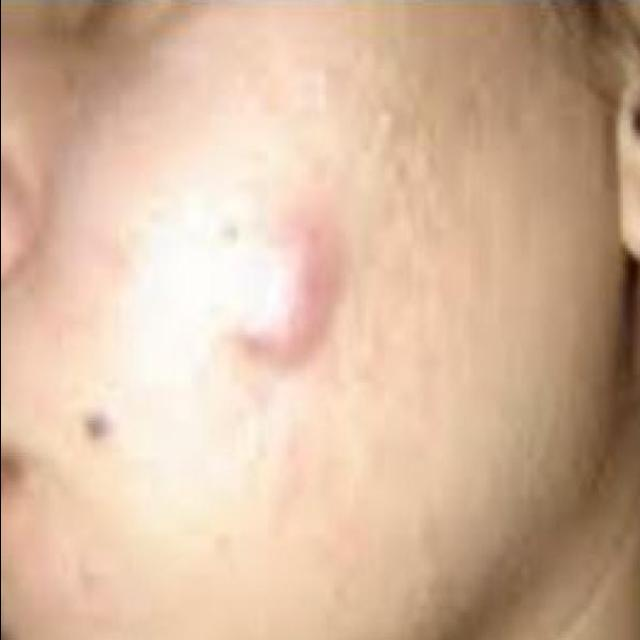nodule: (215, 184, 386, 408)
